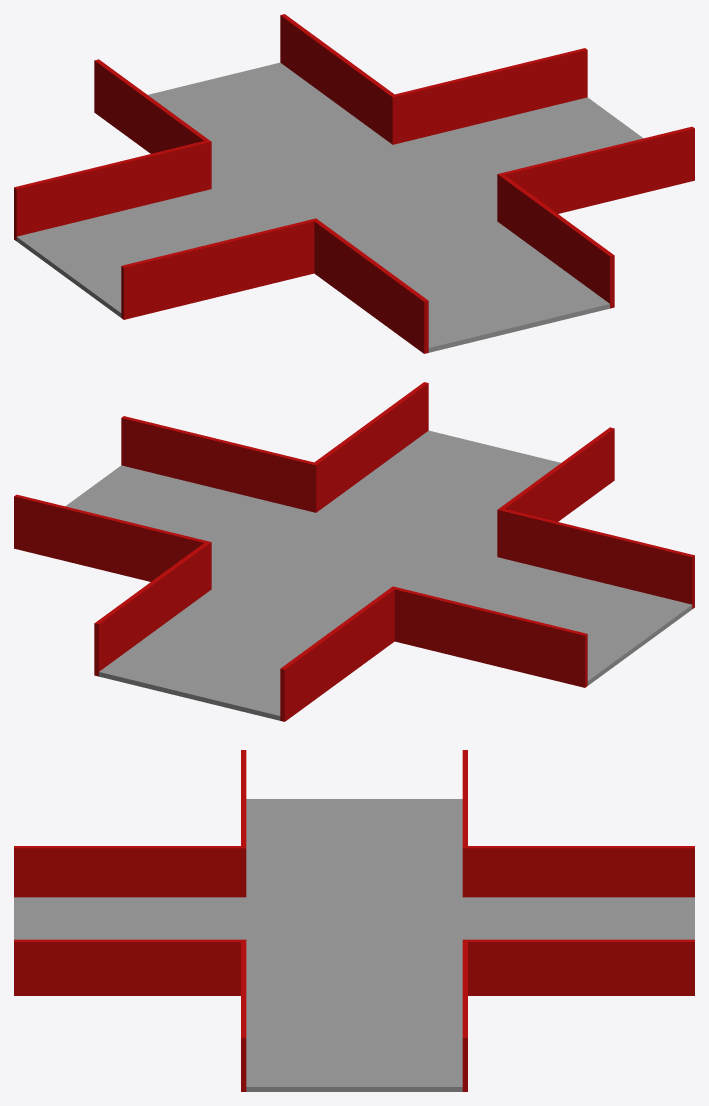
The model's file is cross.obj.
3 renders of one model, top to bottom at view 1: azimuth 30°, elevation 25°; view 2: azimuth 150°, elevation 25°; view 3: azimuth 270°, elevation 25°, orthographic. The views are drawn at different scales.
Bounding box in the file's own units: 126 × 11 × 126.
Materials: 1 (1 with a texture image).
